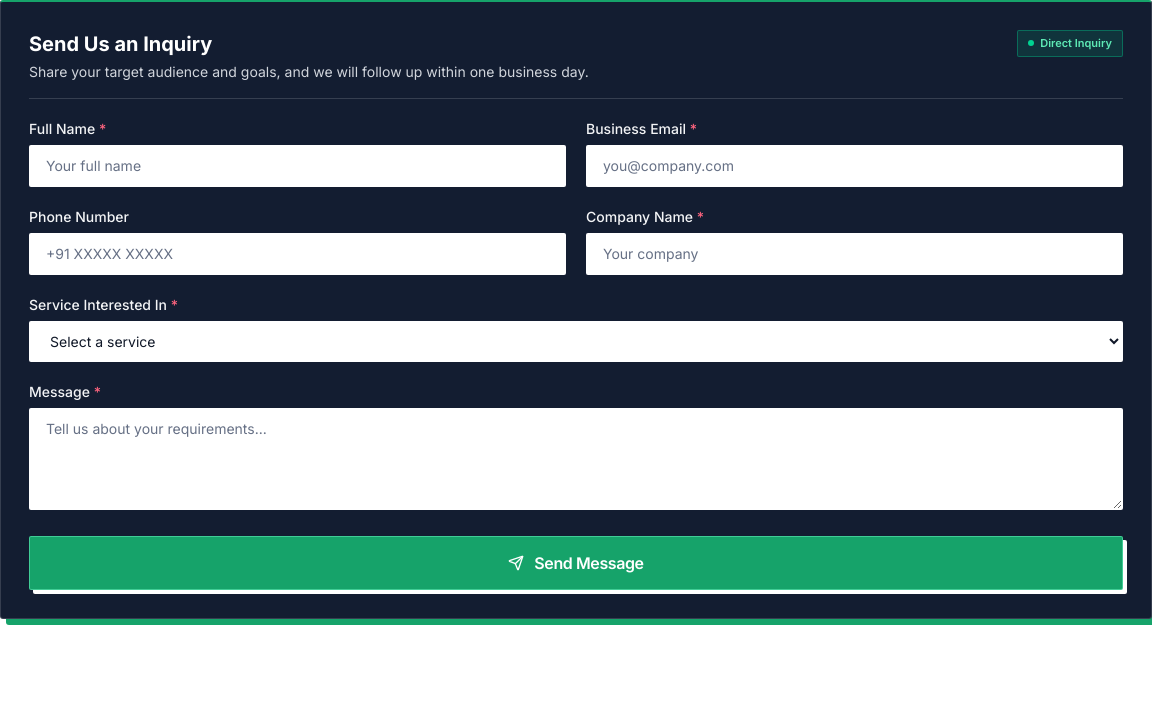
Test: The Softnest Technologies Website & Contact Form › displays an error alert when Formspree returns a failed response
In the field labelled "Full Name *": (298, 166) [29, 145, 566, 187], type "Priya Nair"
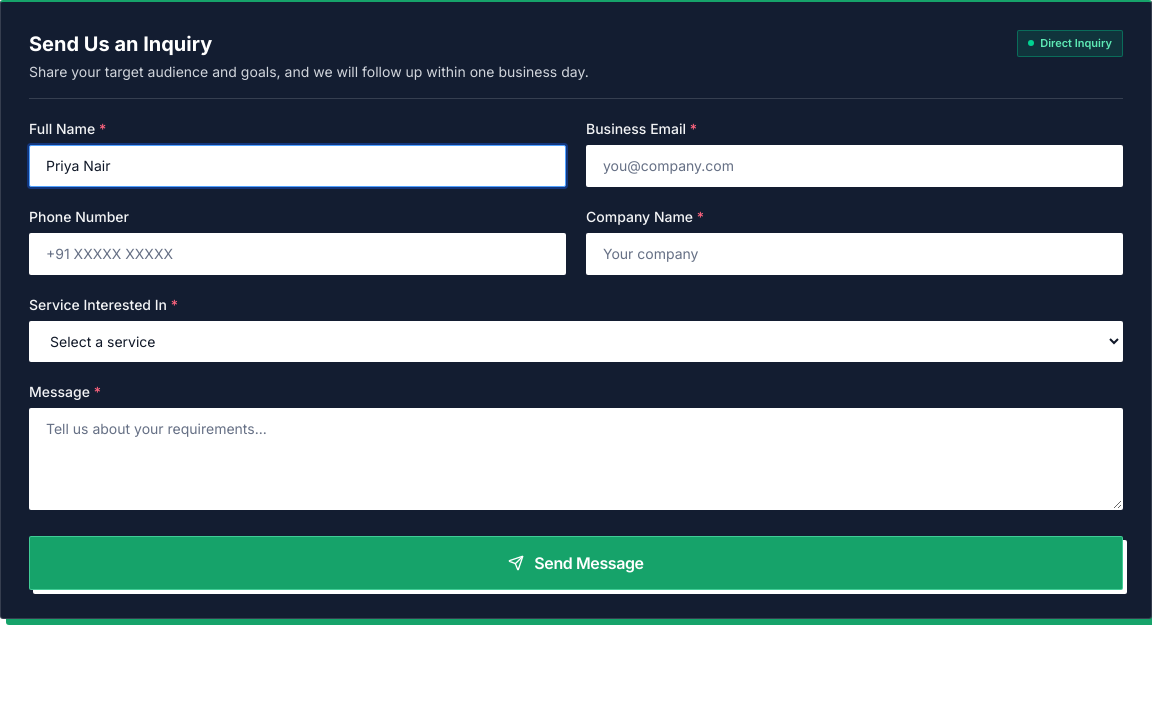
In the field labelled "Business Email *": (854, 166) [586, 145, 1123, 187], type "priya@cloudtech.in"
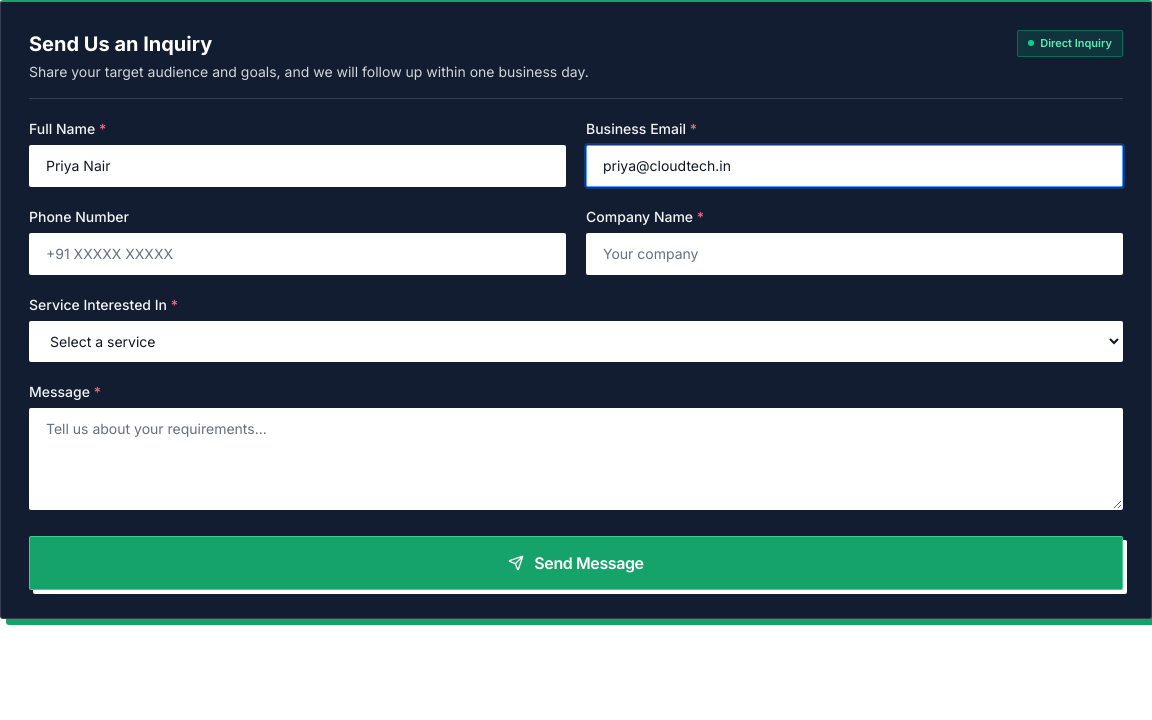
In the field labelled "Company Name *": (854, 254) [586, 233, 1123, 275], type "CloudTech"
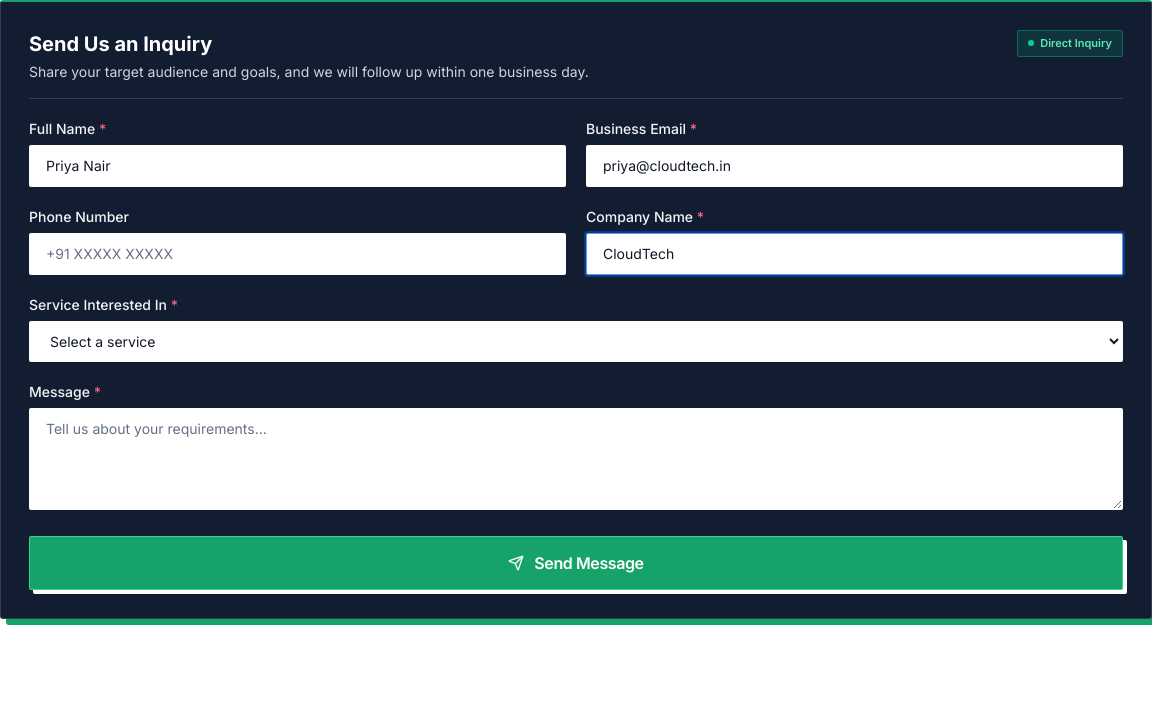
Select "B2B Lead Generation" in the dropdown labelled "Service Interested In *": (576, 342) [29, 321, 1123, 362]
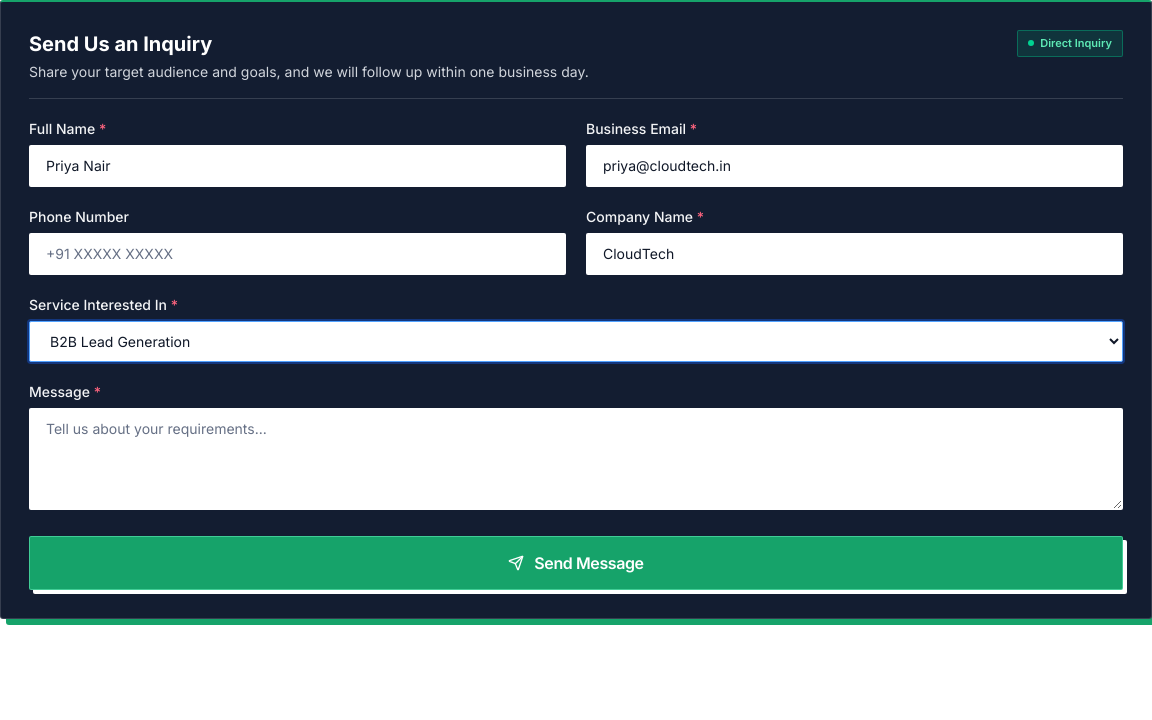
In the text box labelled "Message *": (576, 459) [29, 408, 1123, 510], type "Looking for enterprise leads."
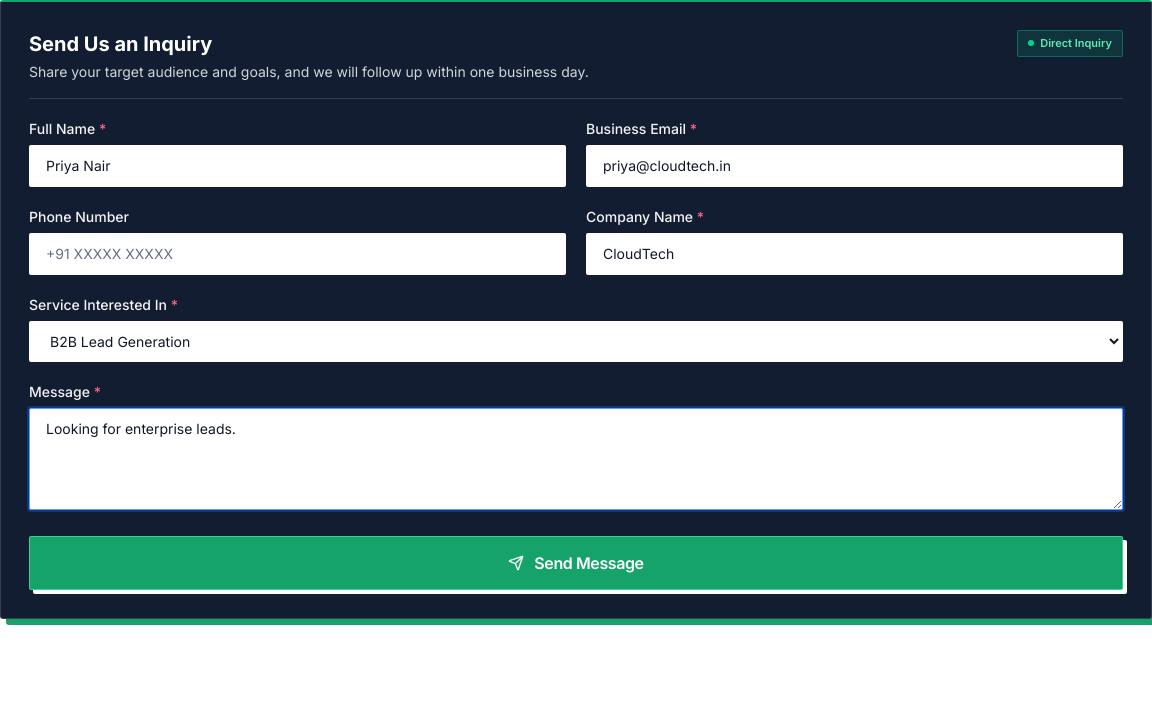
Click the button "Send Message": (576, 563) [29, 536, 1123, 590]
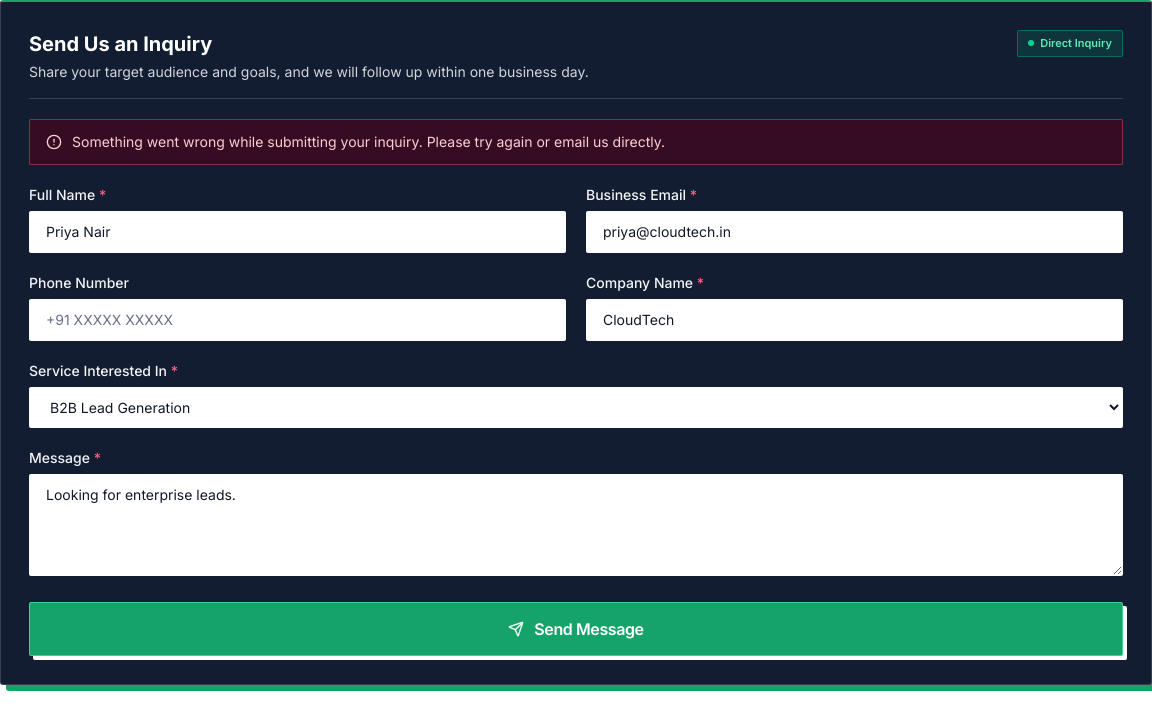
Result: the message is shown at [29, 119, 1123, 165]
